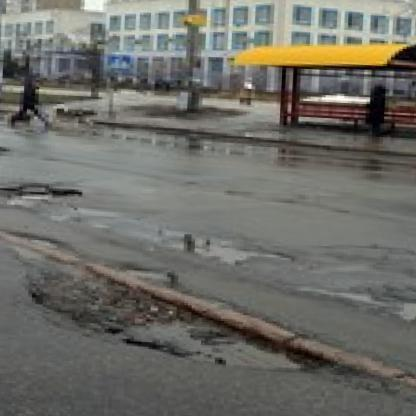pothole: (21, 259, 342, 378), (0, 180, 86, 204), (122, 266, 175, 289), (393, 293, 416, 324)
